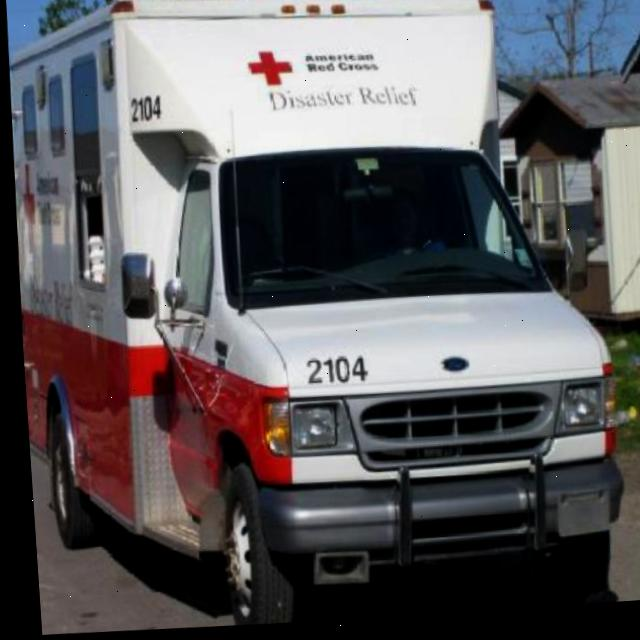emergency: (0, 0, 635, 640)
